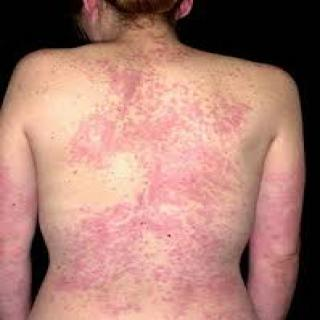urticaria: (145, 162, 243, 300), (47, 211, 142, 294), (62, 114, 198, 157), (0, 166, 24, 318), (268, 171, 294, 307), (208, 90, 252, 168), (104, 65, 163, 103)
